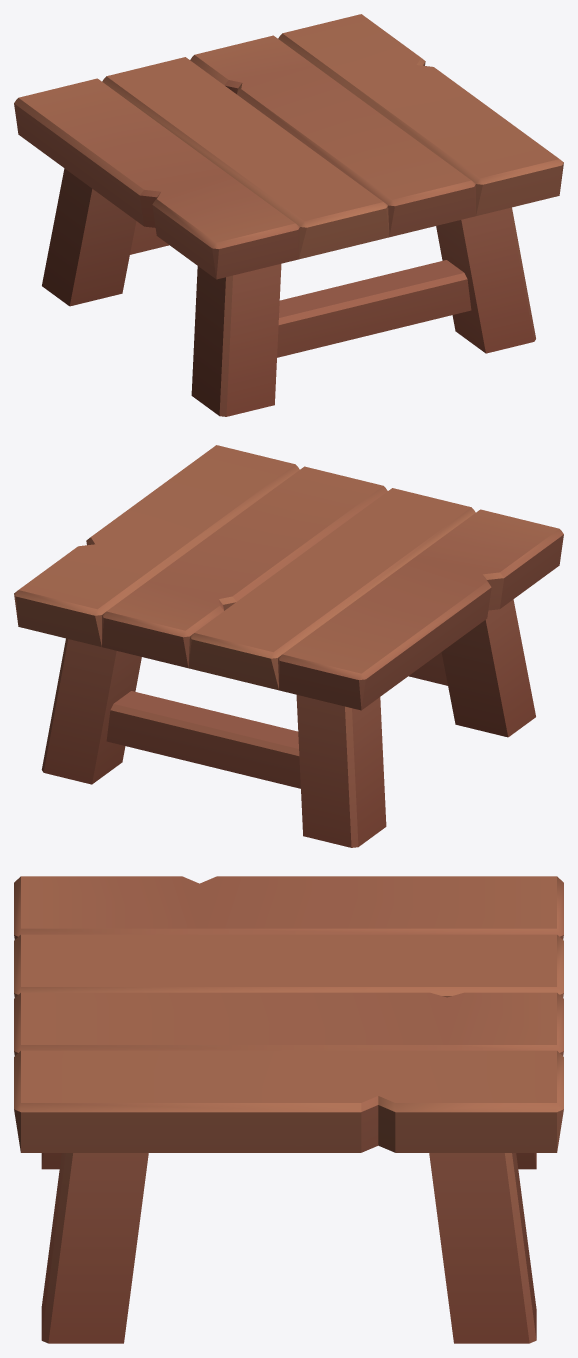
Rendered from table_medium.obj.
The picture shows the model from 3 angles, top to bottom: view 1: azimuth 30°, elevation 25°; view 2: azimuth 150°, elevation 25°; view 3: azimuth 270°, elevation 25°; orthographic projection. The views are drawn at different scales.
Visible parts, largest first — view 1: table_medium; view 2: table_medium; view 3: table_medium.
Boxes of the visible parts, x1,y1,x2,y2 form: table_medium: (14, 14, 563, 416); table_medium: (14, 445, 563, 847); table_medium: (14, 876, 563, 1343).
Bounding box in the file's own units: 2 × 1 × 2.
1 material, 1 textured.
